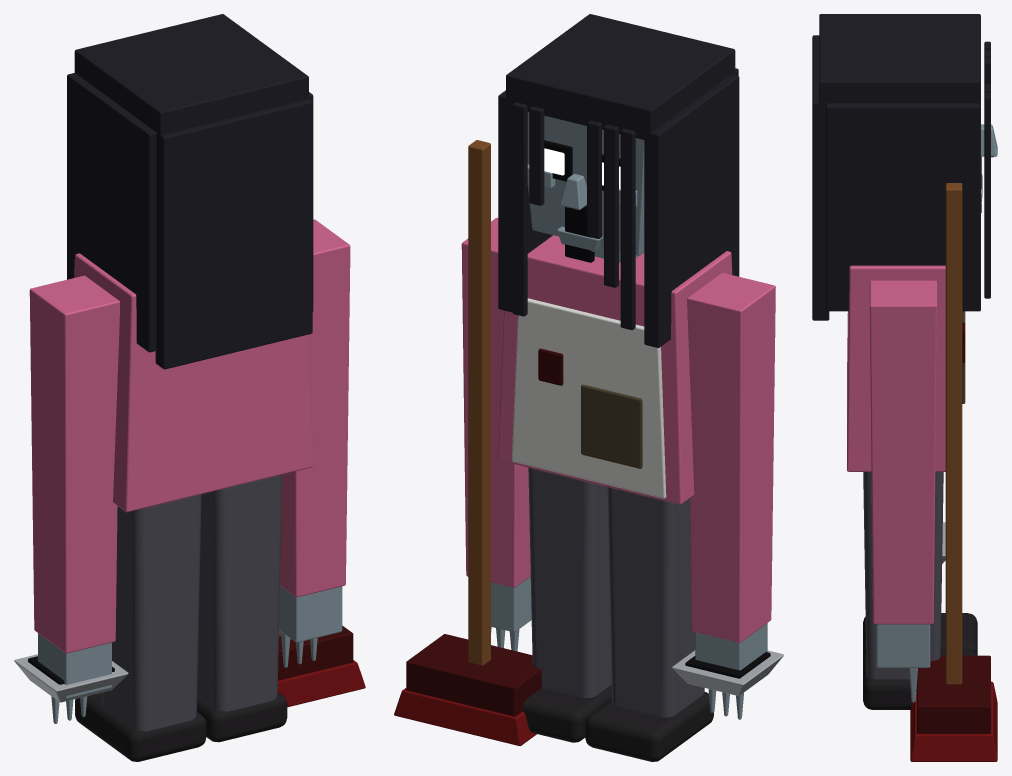
Rendered from sweeper_night.glb.
3 views of the same model, side by side, from view 1: azimuth 30°, elevation 25°; view 2: azimuth 150°, elevation 25°; view 3: azimuth 270°, elevation 25° (orthographic). The views are drawn at different scales.
Parts seen in each view (by area): view 1: Head, ArmL, Torso, ArmR, LegL, LegR; view 2: Head, Torso, ArmL, ArmR, LegL, LegR; view 3: Head, ArmR, Torso, LegR, LegL.
Part boxes in pixels (<box>): Head: <box>67,14,313,369</box>; ArmL: <box>14,275,128,723</box>; Torso: <box>74,253,313,512</box>; ArmR: <box>277,219,365,707</box>; LegL: <box>75,494,206,761</box>; LegR: <box>197,474,287,742</box>; Head: <box>498,14,739,347</box>; Torso: <box>498,235,732,504</box>; ArmL: <box>672,272,783,719</box>; ArmR: <box>394,140,541,745</box>; LegL: <box>585,487,713,761</box>; LegR: <box>522,467,611,742</box>; Head: <box>812,14,997,320</box>; ArmR: <box>869,183,997,761</box>; Torso: <box>847,265,965,471</box>; LegR: <box>863,472,976,709</box>; LegL: <box>863,613,977,658</box>.
Bounding box in the file's own units: 1.07 × 2.07 × 0.5492.
